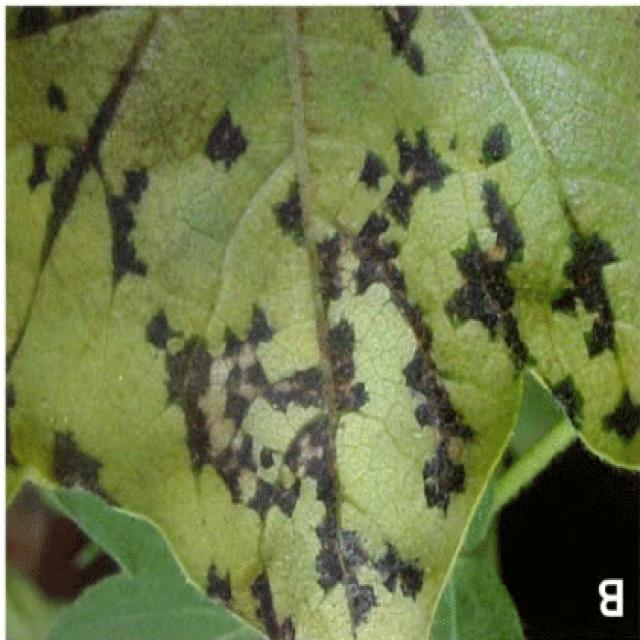Bacterial Blight: (145, 146, 560, 492)
